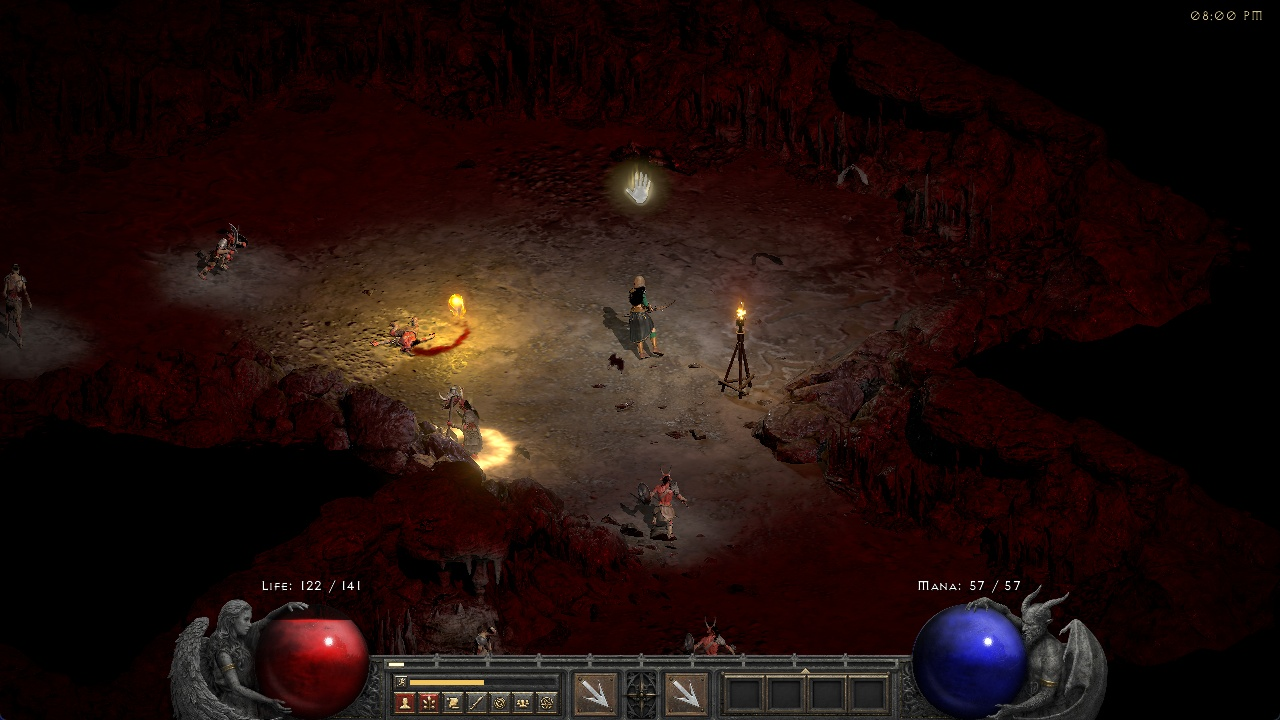fallen: (634, 464, 687, 541), (196, 221, 254, 280), (678, 616, 739, 655)
